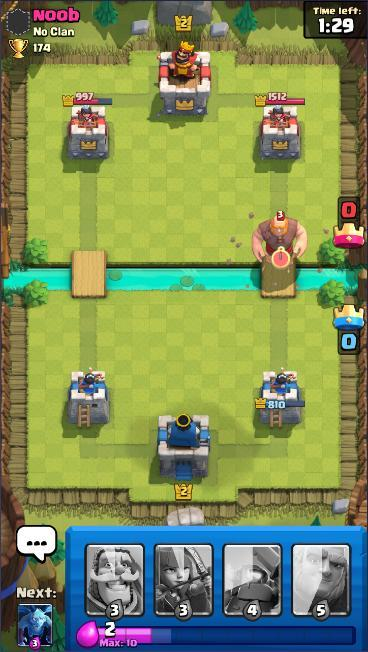enemy_giant: (250, 208, 309, 271)
